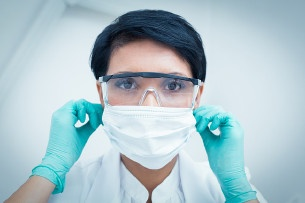Mask: (101, 68, 198, 165)
